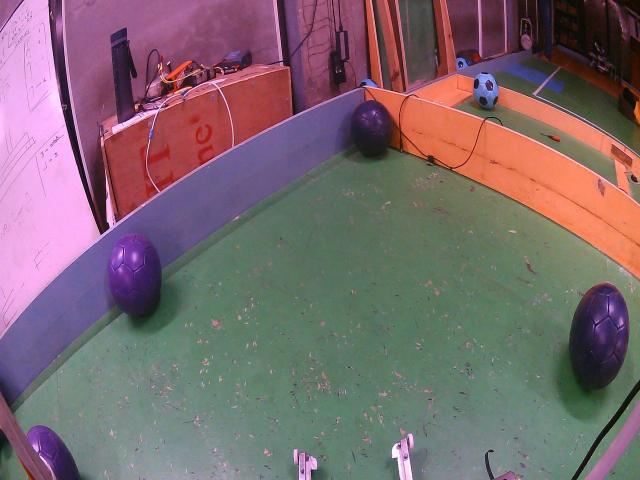jambhalya: (108, 233, 161, 315), (26, 425, 81, 480)
kaalyya: (569, 283, 629, 389), (351, 100, 392, 157)
